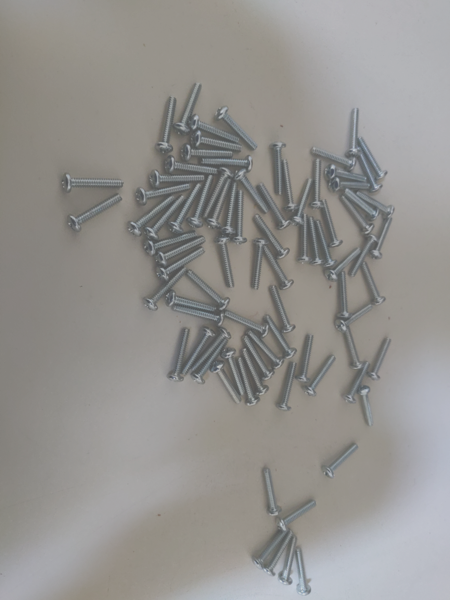longscrew: (68, 195, 123, 232), (173, 79, 207, 137), (143, 266, 188, 309), (186, 269, 231, 311), (180, 325, 215, 379), (144, 194, 184, 240), (190, 326, 229, 373), (236, 166, 271, 216), (129, 195, 174, 232), (219, 108, 259, 149), (156, 249, 207, 280), (199, 163, 229, 215), (199, 169, 229, 221), (155, 235, 205, 266), (252, 529, 292, 567), (171, 180, 200, 232), (200, 179, 229, 231), (254, 216, 289, 259), (262, 531, 294, 577), (146, 227, 199, 254), (249, 328, 283, 370), (305, 355, 339, 397), (155, 95, 179, 154), (167, 327, 192, 383), (264, 317, 298, 358), (196, 342, 228, 385), (245, 336, 274, 383), (241, 351, 269, 398), (289, 175, 314, 227), (259, 183, 286, 231), (323, 444, 361, 478), (349, 235, 378, 279), (327, 244, 361, 281), (265, 248, 293, 292), (277, 501, 318, 531), (340, 197, 373, 234), (234, 360, 259, 408), (275, 534, 297, 588), (359, 136, 387, 178), (212, 362, 240, 404), (367, 338, 394, 381), (169, 304, 226, 324), (221, 348, 245, 395), (224, 311, 269, 336), (189, 117, 240, 139), (294, 332, 316, 383), (345, 362, 371, 405), (371, 216, 395, 262), (272, 286, 295, 334), (277, 362, 299, 412), (362, 260, 387, 303), (345, 189, 382, 218), (343, 321, 363, 374), (321, 200, 343, 248), (214, 183, 236, 231), (336, 304, 375, 331), (161, 158, 222, 174), (144, 170, 205, 186), (132, 185, 193, 201), (62, 175, 123, 191), (262, 465, 280, 518), (293, 548, 312, 598), (305, 157, 323, 209), (191, 134, 243, 152), (249, 240, 268, 289), (231, 190, 246, 252), (316, 220, 336, 266), (217, 233, 232, 292), (355, 192, 395, 214), (271, 142, 287, 196), (165, 295, 217, 311), (345, 105, 361, 156), (360, 152, 380, 192), (309, 149, 358, 165), (336, 271, 351, 320), (309, 213, 322, 269), (280, 161, 294, 211), (361, 386, 376, 430), (298, 213, 310, 265), (200, 156, 252, 168), (178, 146, 234, 157), (324, 166, 369, 178), (330, 179, 371, 191)
